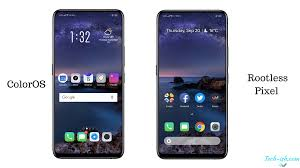oppo: (48, 4, 126, 162), (154, 6, 232, 164)
